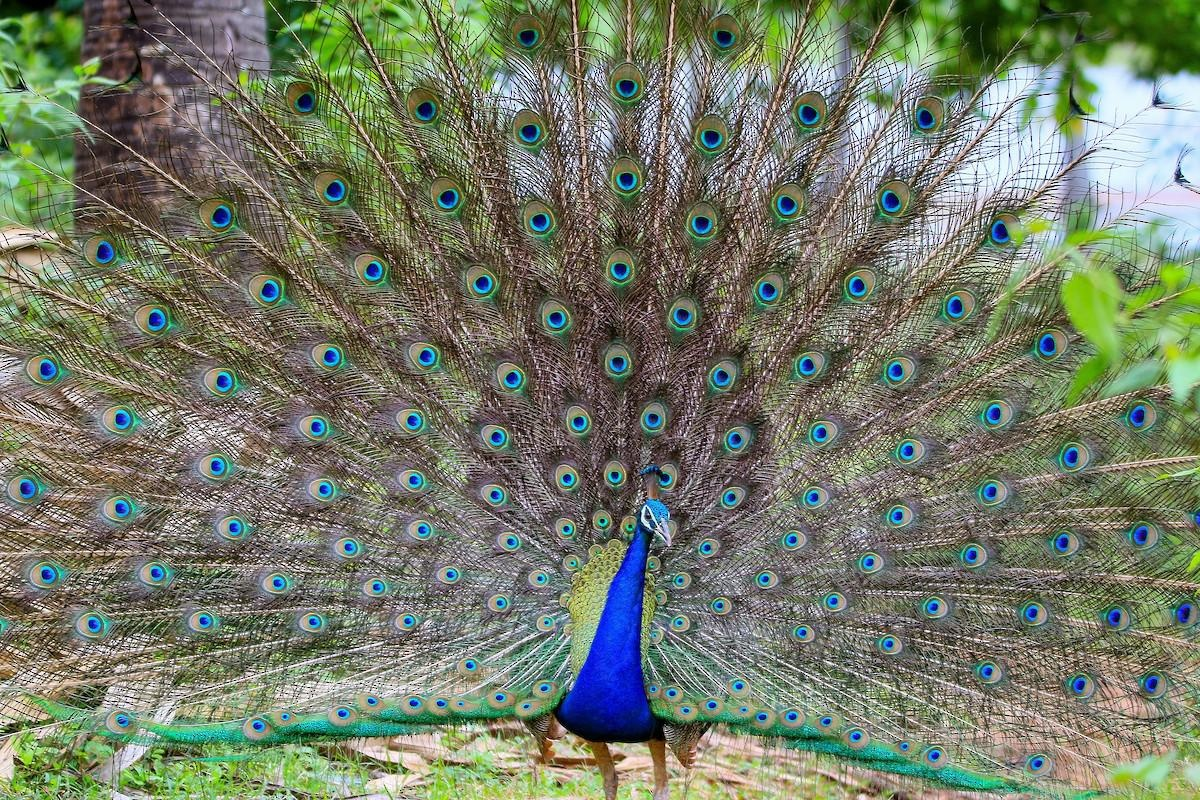peacock: (69, 108, 1159, 800)
